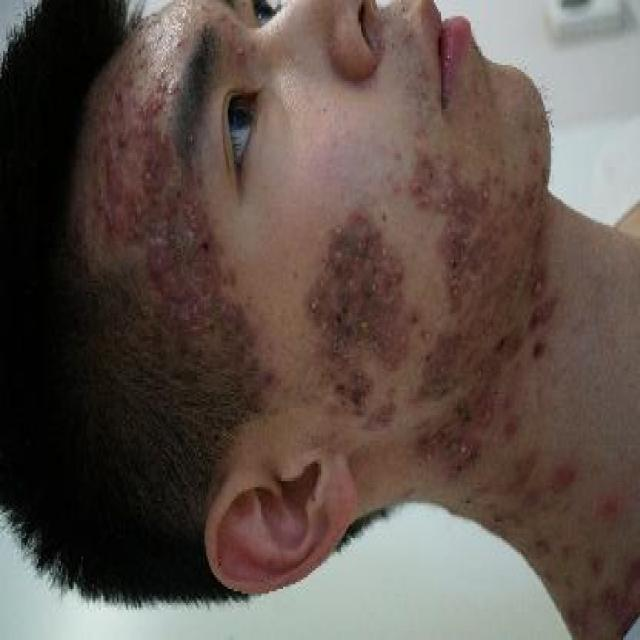papules: (232, 40, 250, 62)
pustules: (529, 278, 546, 304), (438, 184, 457, 206), (306, 297, 322, 322), (448, 280, 464, 304), (330, 220, 348, 241), (481, 186, 497, 207), (345, 274, 360, 294), (114, 132, 134, 146), (457, 438, 469, 459), (378, 241, 391, 260), (421, 327, 434, 345), (396, 332, 410, 348), (351, 253, 363, 269), (424, 450, 436, 466), (354, 352, 363, 368), (366, 341, 379, 352), (368, 281, 378, 292)
